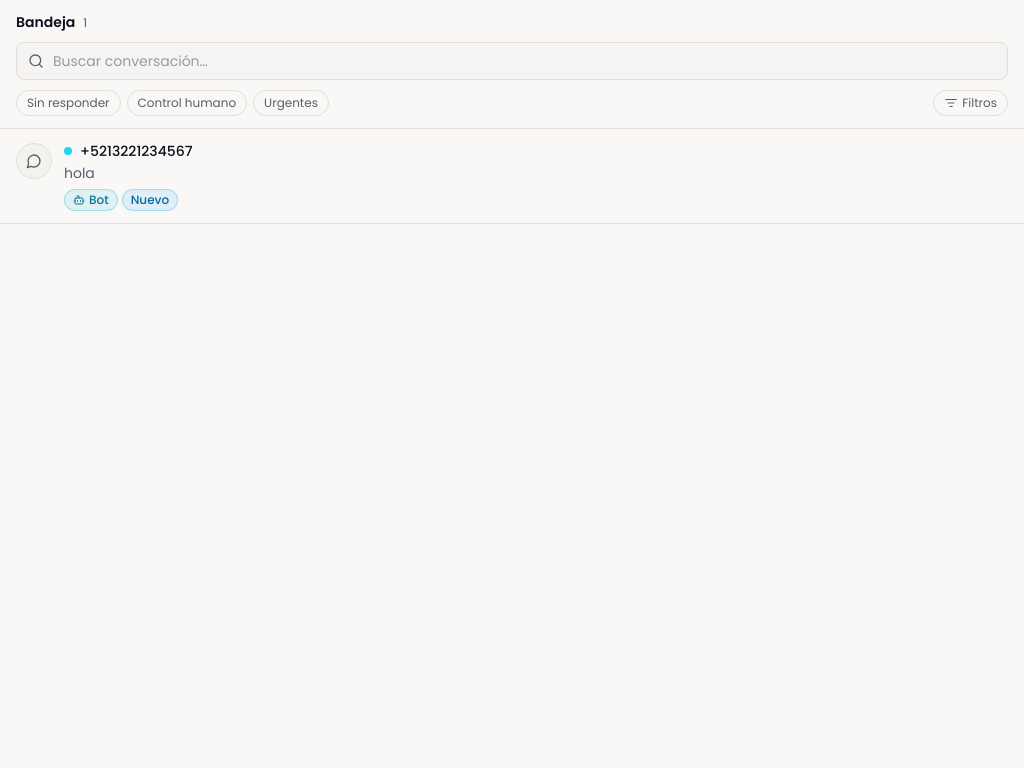
Test: ConversationList — preservación de filtros (PixelBot Console) › el popover de Filtros conserva las 7 categorías y los 3 filtros restantes
Click the button "Filtros" at x=971, y=103, box [933,90,1008,116]
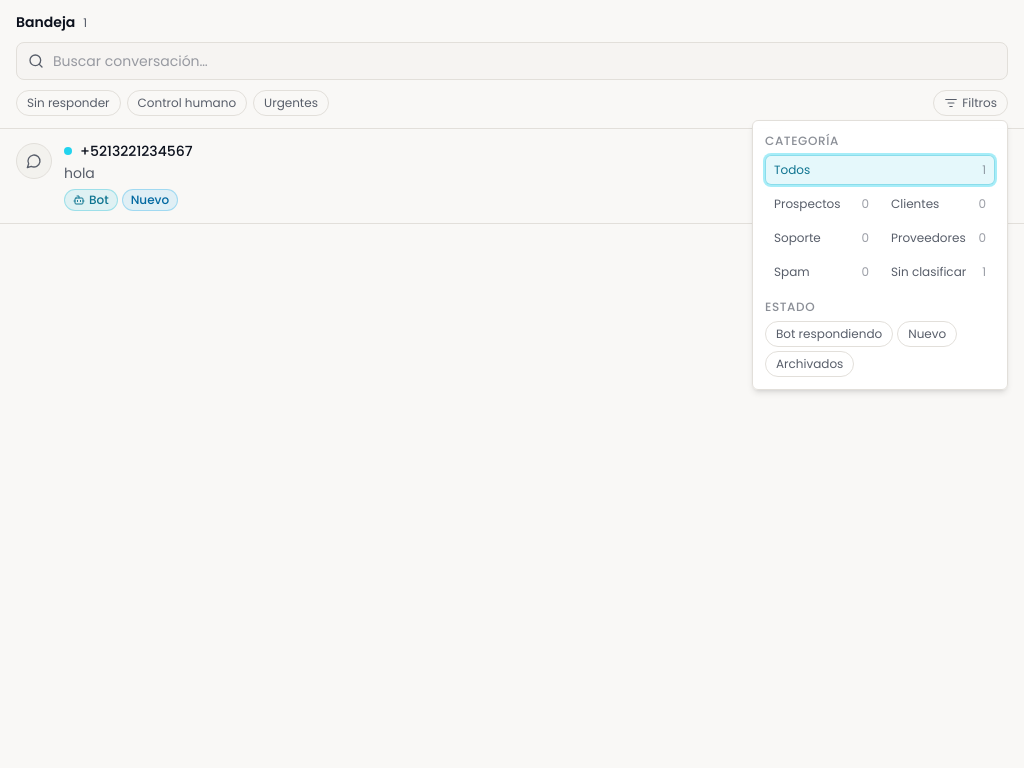
Now the button "Bot respondiendo" is shown, box [765,321,893,347]
Now the button "Nuevo" is shown, box [897,321,957,347]
Now the button "Archivados" is shown, box [765,351,854,377]
